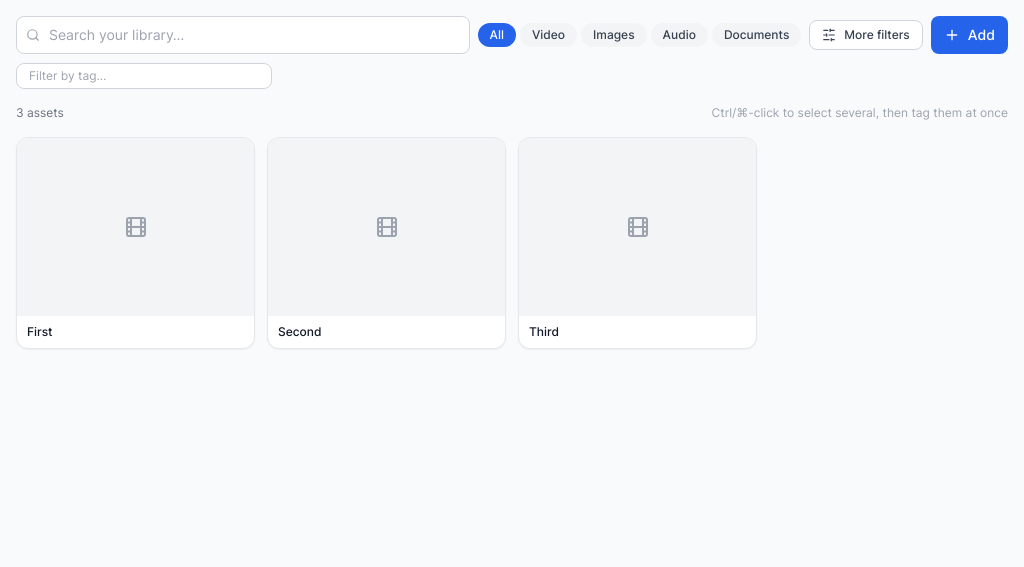
Test: LibraryView generations (M8) › offers text → image in the add panel
Step 1. Click the button with aria-label "Add to library" → click(969, 35), box [931,16,1008,54]
(page scrolled)
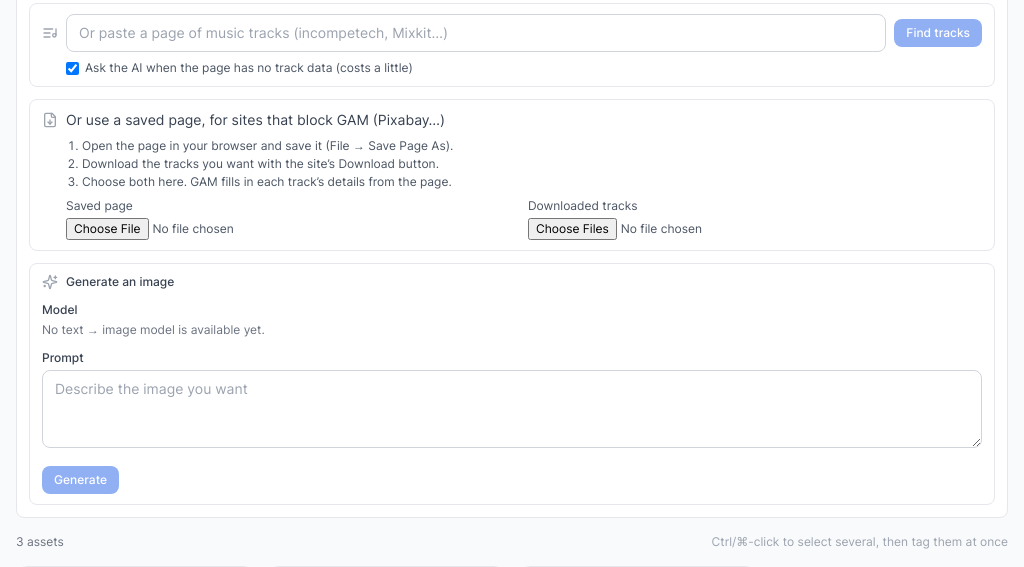
Expected: the form "Generate an image" is shown, [29,263,995,505]
